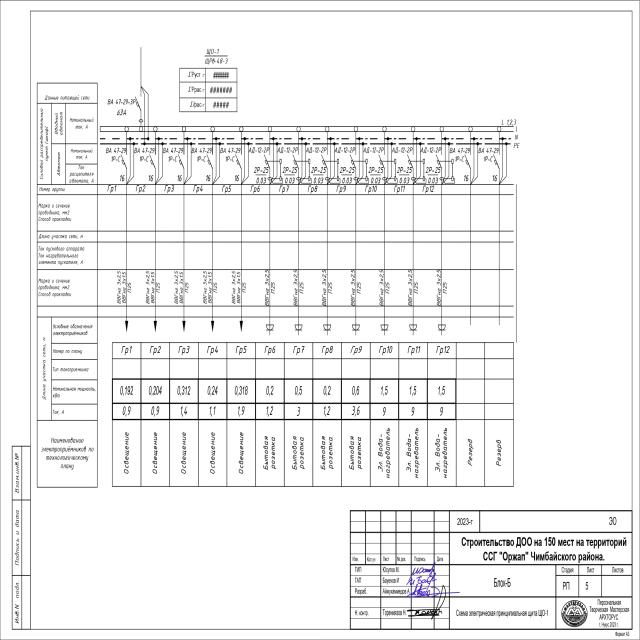-: (306, 145, 328, 183), (249, 146, 270, 184), (335, 146, 356, 184), (392, 146, 413, 184), (190, 146, 212, 182), (162, 146, 184, 182), (105, 146, 126, 183), (421, 146, 442, 183), (277, 146, 298, 183), (364, 146, 384, 184), (450, 145, 470, 182), (220, 146, 240, 182), (478, 147, 498, 182), (134, 147, 154, 182), (107, 97, 136, 117), (204, 56, 229, 65)
QF: (134, 93, 143, 112), (492, 151, 500, 171), (178, 150, 186, 169), (464, 151, 472, 170), (148, 151, 156, 170), (120, 151, 128, 170), (235, 151, 242, 171), (207, 151, 214, 170)
QFD: (262, 153, 284, 185), (434, 152, 456, 184), (377, 153, 398, 185), (321, 153, 342, 185), (292, 154, 313, 185), (349, 153, 370, 184), (406, 153, 426, 185)
